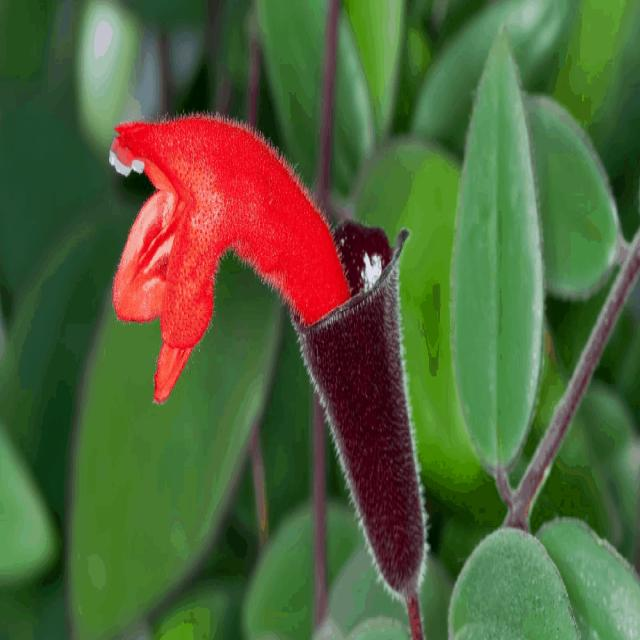Lipstick-Plant: (107, 104, 429, 612)
